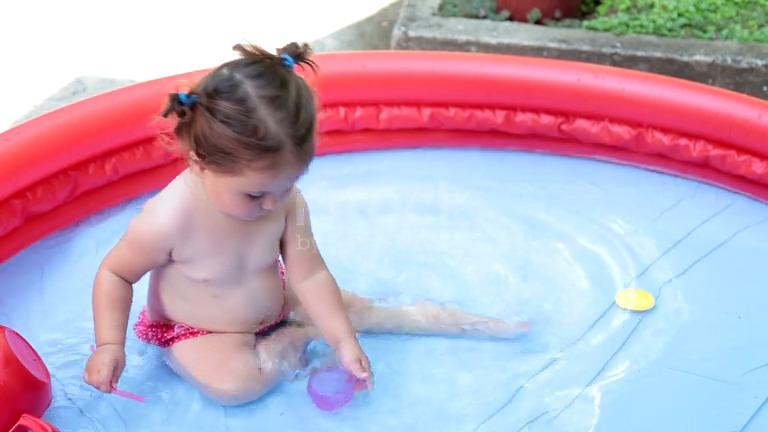Swimming: (46, 29, 536, 386)
